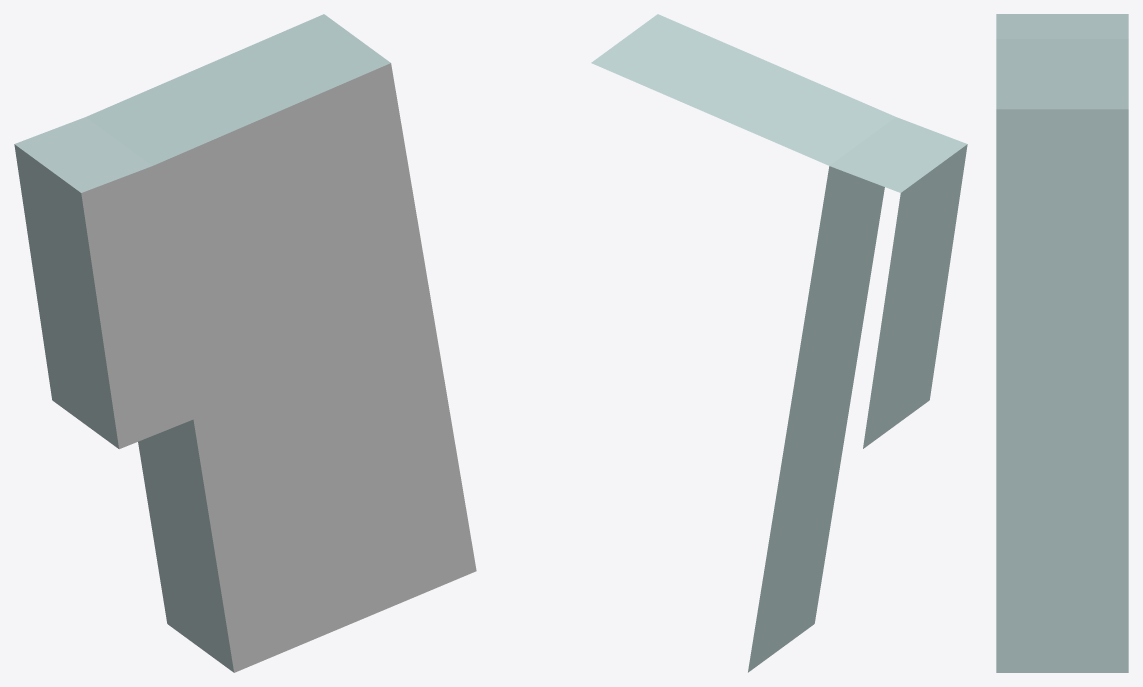
3 views of the same model, side by side, from view 1: azimuth 30°, elevation 25°; view 2: azimuth 150°, elevation 25°; view 3: azimuth 270°, elevation 25° (orthographic).
Parts seen in each view (by area): view 1: 0_1_2_1_3_1_2_1_1; view 2: 0_1_2_1_3_1_2_1_1; view 3: 0_1_2_1_3_1_2_1_1.
Part boxes in pixels (x1=…): 0_1_2_1_3_1_2_1_1: x1=14, y1=14, x2=476, y2=672; 0_1_2_1_3_1_2_1_1: x1=591, y1=14, x2=967, y2=672; 0_1_2_1_3_1_2_1_1: x1=996, y1=14, x2=1128, y2=672.
Bounding box in the file's own units: 10.23 × 14.13 × 3.
